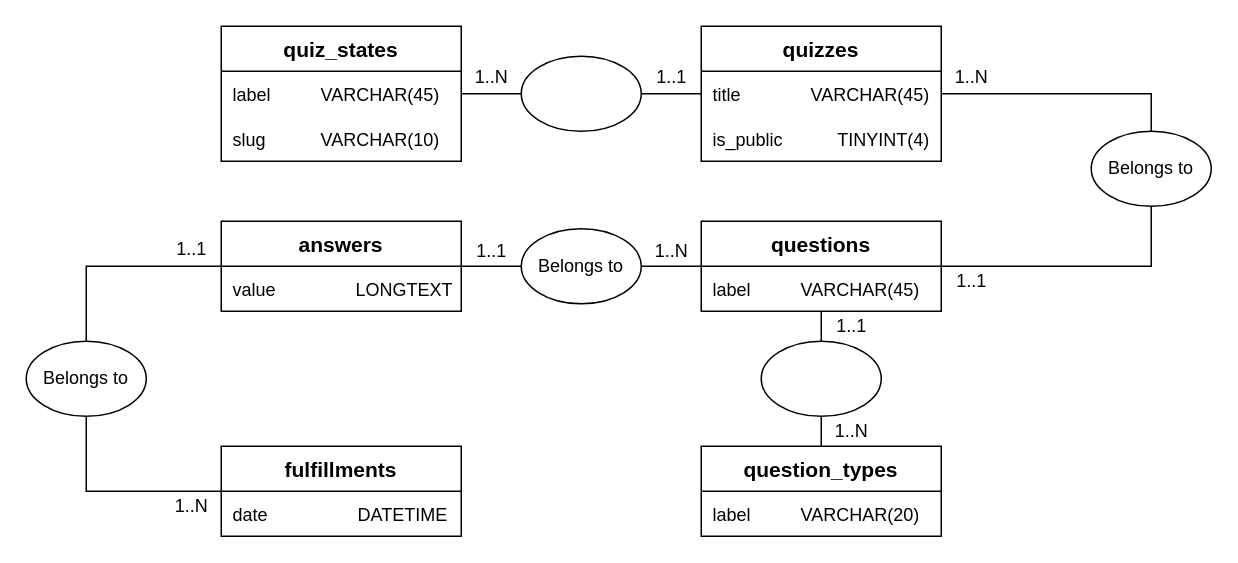
Some shapes in this 1238 by 563 pixel diagram are drawn without their labels. Each missing label, with the centre of its shape:
"Characterize" belongs at point (580, 93).
"Identify" belongs at point (820, 378).
